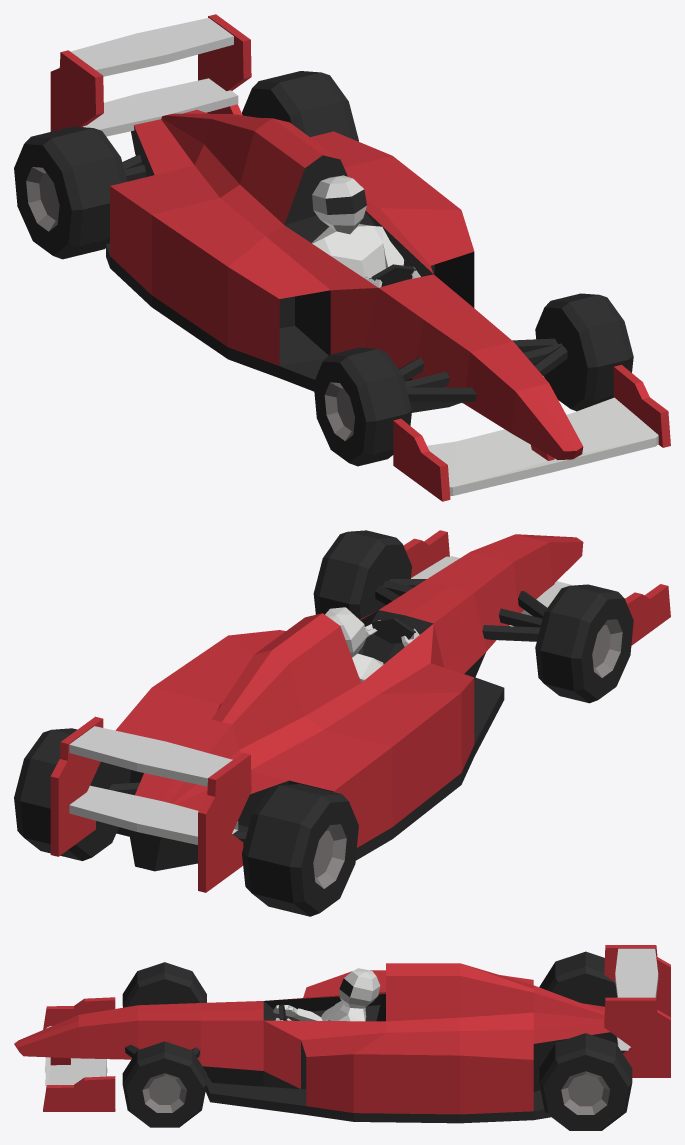
Rendered from vehicles_car-formula.fbx.
3 views of the same model, one above another, from view 1: azimuth 30°, elevation 25°; view 2: azimuth 150°, elevation 25°; view 3: azimuth 270°, elevation 25° (orthographic). The views are drawn at different scales.
Parts seen in each view (by area): view 1: car_formula_base, car_formula_wheel_BR, car_formula_wheel_FR, car_formula_wheel_FL, car_formula_wheel_BL; view 2: car_formula_base, car_formula_wheel_BR, car_formula_wheel_FR, car_formula_wheel_FL, car_formula_wheel_BL; view 3: car_formula_base, car_formula_wheel_BL, car_formula_wheel_FL, car_formula_wheel_BR, car_formula_wheel_FR.
Boxes of the visible parts, x1,y1,x2,y2 form: car_formula_base: (50, 14, 670, 501); car_formula_wheel_BR: (14, 126, 127, 259); car_formula_wheel_FR: (313, 347, 411, 466); car_formula_wheel_FL: (535, 293, 633, 411); car_formula_wheel_BL: (242, 71, 358, 141); car_formula_base: (50, 530, 670, 892); car_formula_wheel_BR: (242, 784, 358, 916); car_formula_wheel_FR: (535, 584, 633, 703); car_formula_wheel_FL: (313, 530, 411, 619); car_formula_wheel_BL: (14, 728, 130, 860); car_formula_base: (14, 945, 670, 1123); car_formula_wheel_BL: (539, 1033, 632, 1130); car_formula_wheel_FL: (122, 1041, 206, 1127); car_formula_wheel_BR: (539, 951, 617, 1006); car_formula_wheel_FR: (122, 962, 206, 1007).
Size of the model in its own units: 73.97 by 40.11 by 200.
